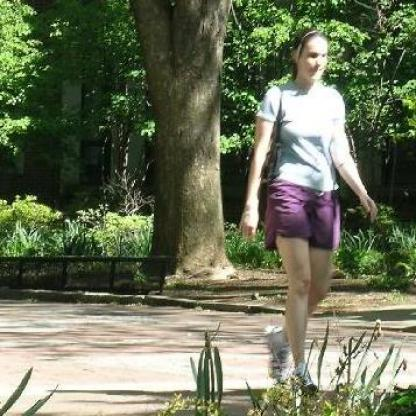person: (242, 31, 385, 393)
